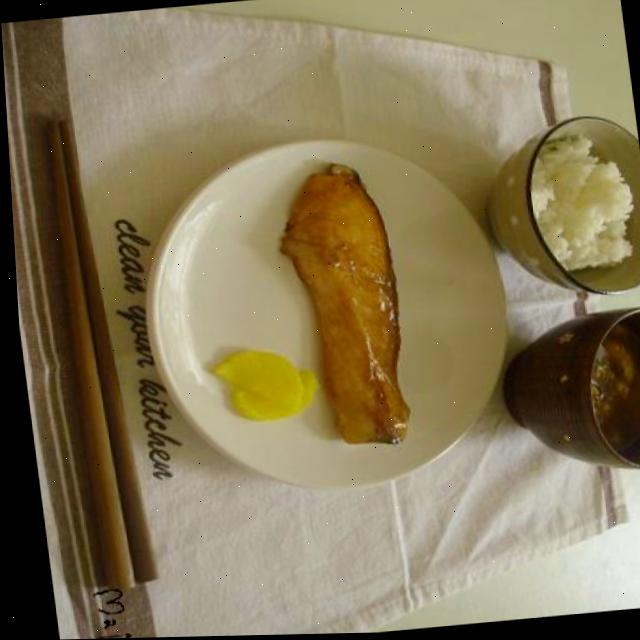熟制海鲜: (266, 125, 459, 509)
